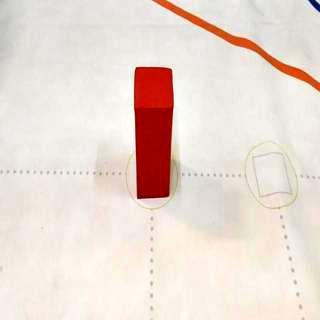redbox: (134, 64, 176, 200)
